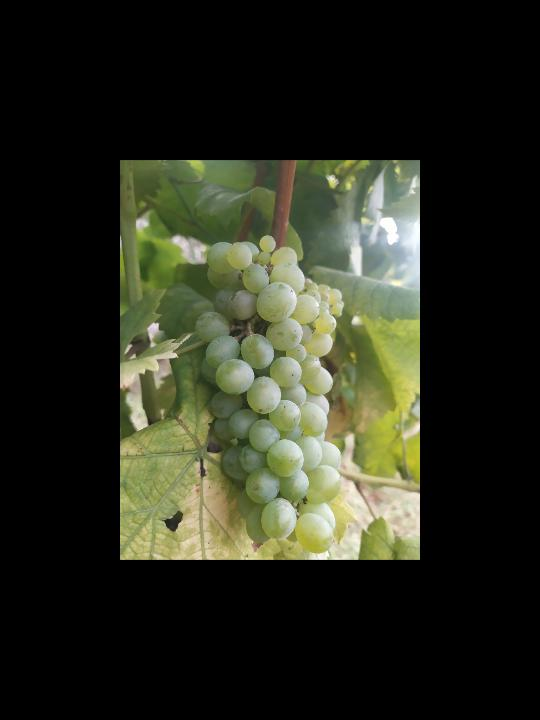grape: (194, 234, 347, 555)
